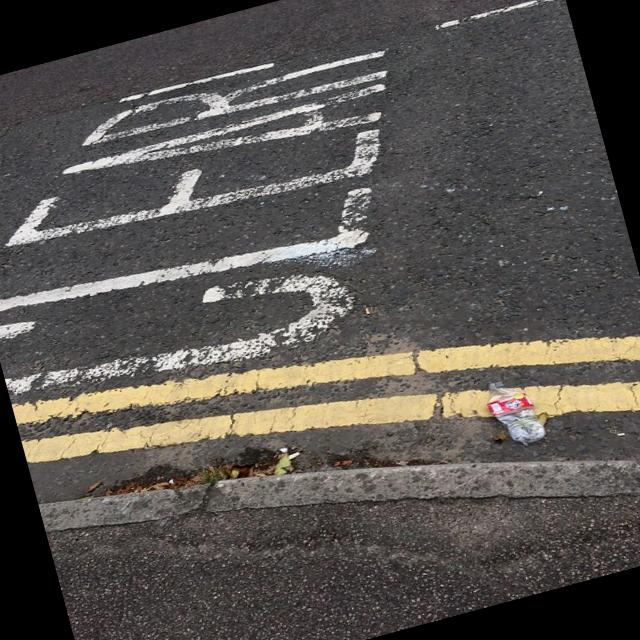Recycle: (483, 372, 550, 452)
